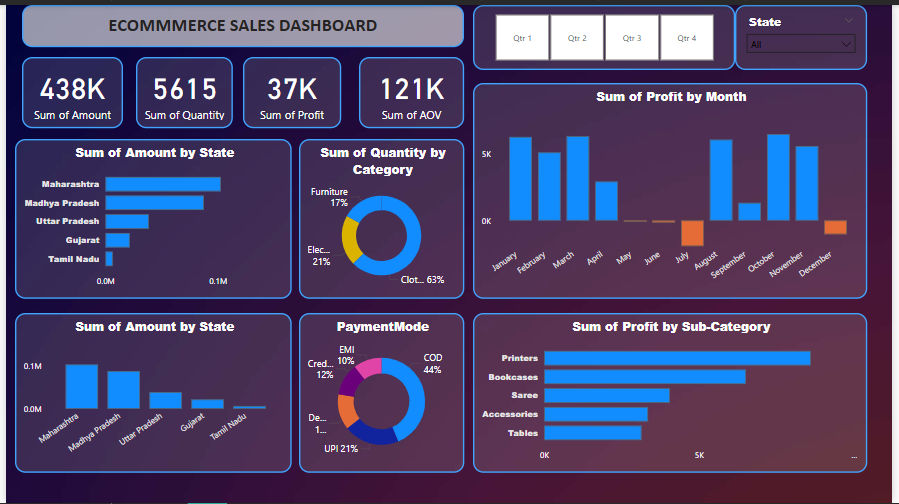

What the dashboard file says about the page in this screenshot:
{"tool":"powerbi","page":{"name":"Page 1","canvas":[1280,720],"ordinal":0},"visuals":[{"type":"textbox","box":[23.1,0,639,60.7],"z":0},{"type":"columnChart","fields":{"Category":["Orders.Order Date.Variation.Date Hierarchy.Month"],"Y":["Sum(Details.Profit)"]},"box":[675.2,112.8,569.6,312.3],"z":1000},{"type":"barChart","fields":{"Category":["Details.Sub-Category"],"Y":["Sum(Details.Profit)"]},"box":[675.2,445.3,569.6,231.3],"z":2000},{"type":"donutChart","fields":{"Category":["Details.Category"],"Y":["Sum(Details.Quantity)"]},"box":[423.6,193.7,238.6,231.3],"z":3000},{"type":"donutChart","title":"PaymentMode","fields":{"Category":["Details.PaymentMode"],"Y":["Sum(Details.Quantity)"]},"box":[423.6,445.3,238.6,231.3],"z":4000},{"type":"card","fields":{"Values":["Sum(Details.Amount)"]},"box":[23.1,75.2,146,102.7],"z":5000},{"type":"card","fields":{"Values":["Sum(Details.AOV)"]},"box":[510.4,75.2,151.8,102.7],"z":6000},{"type":"card","fields":{"Values":["Sum(Details.Profit)"]},"box":[342.7,75.2,141.7,102.7],"z":7000},{"type":"card","fields":{"Values":["Sum(Details.Quantity)"]},"box":[188,75.2,140.2,102.7],"z":8000},{"type":"barChart","fields":{"Category":["Orders.State"],"Y":["Sum(Details.Amount)"]},"box":[13,193.7,400.5,231.3],"z":9000},{"type":"columnChart","fields":{"Category":["Orders.State"],"Y":["Sum(Details.Amount)"]},"box":[13,445.3,400.5,231.3],"z":10000},{"type":"slicer","fields":{"Values":["Orders.Order Date.Variation.Date Hierarchy.Quarter"]},"box":[675.2,0,378.8,94],"z":11000},{"type":"slicer","fields":{"Values":["Orders.State"]},"box":[1054,0,190.8,94],"z":12000}]}

Visuals, with their boxes in screenshot pixels (x1, y1, x2, y2), scaled from the page's 1280x720 canvas onto the 899x504 screenshot:
textbox: region(16, 0, 465, 42)
columnChart - Orders.Order Date.Variation.Date Hierarchy.Month x Sum(Details.Profit): region(474, 79, 874, 298)
barChart - Details.Sub-Category x Sum(Details.Profit): region(474, 312, 874, 474)
donutChart - Details.Category x Sum(Details.Quantity): region(298, 136, 465, 298)
"PaymentMode" donutChart: region(298, 312, 465, 474)
card - Sum(Details.Amount): region(16, 53, 119, 125)
card - Sum(Details.AOV): region(358, 53, 465, 125)
card - Sum(Details.Profit): region(241, 53, 340, 125)
card - Sum(Details.Quantity): region(132, 53, 231, 125)
barChart - Orders.State x Sum(Details.Amount): region(9, 136, 290, 298)
columnChart - Orders.State x Sum(Details.Amount): region(9, 312, 290, 474)
slicer - Orders.Order Date.Variation.Date Hierarchy.Quarter: region(474, 0, 740, 66)
slicer - Orders.State: region(740, 0, 874, 66)
